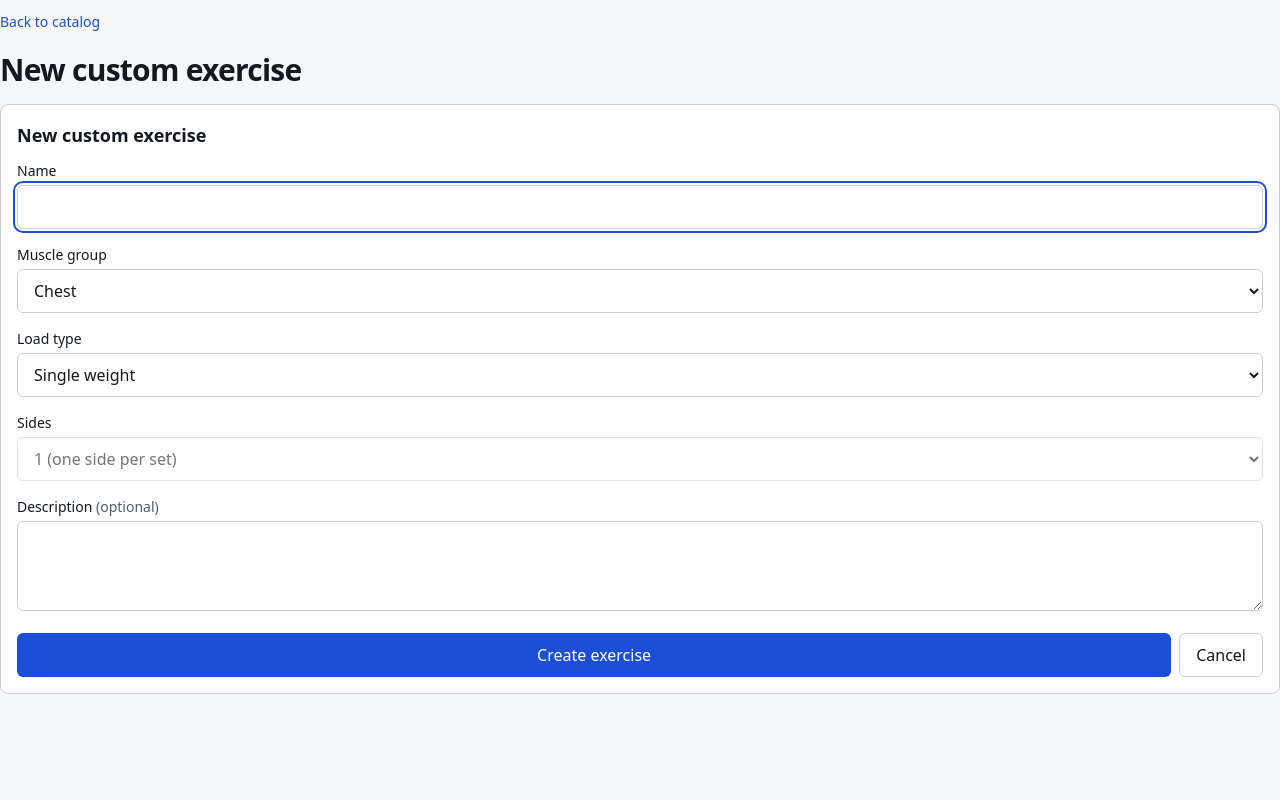
Scenario: ExerciseForm through the catalog screen › gives immediate required/range/cross-field feedback without a request
Click the button "Create exercise" at (594, 655), box [17,633,1171,677]
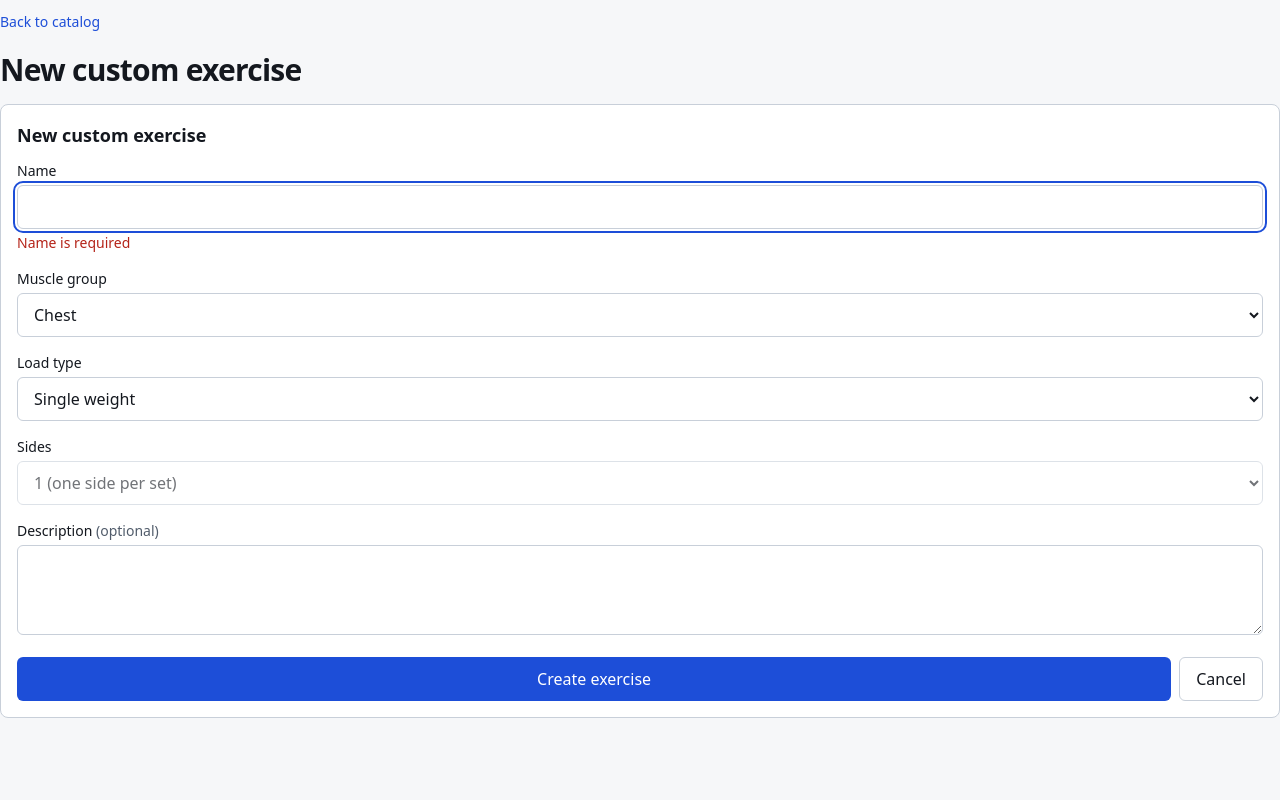
Expected: the text "Name is required" is shown, [17,233,130,252]
Type "Z Custom" into the field labelled "Name" at (640, 207), box [17,185,1263,229]
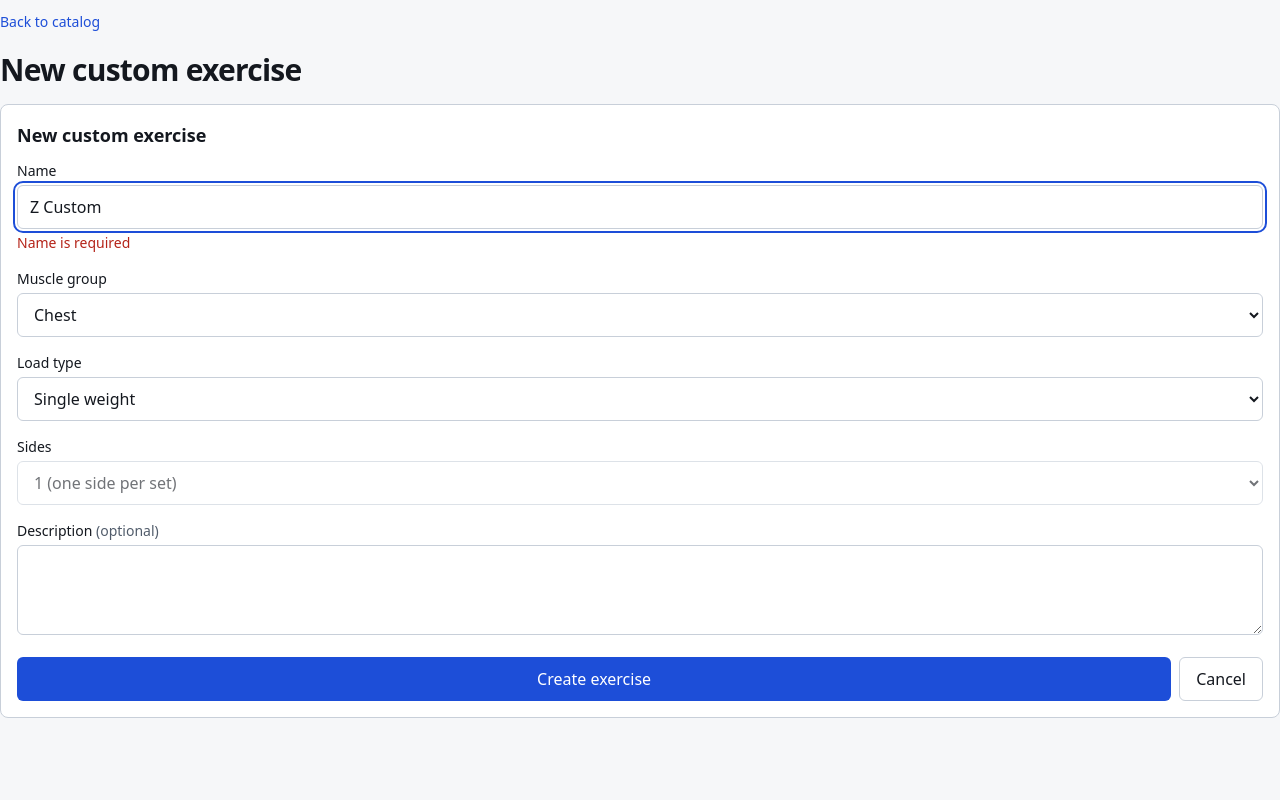
Select "Bodyweight" in the dropdown labelled "Load type" at (640, 399), box [17,377,1263,421]
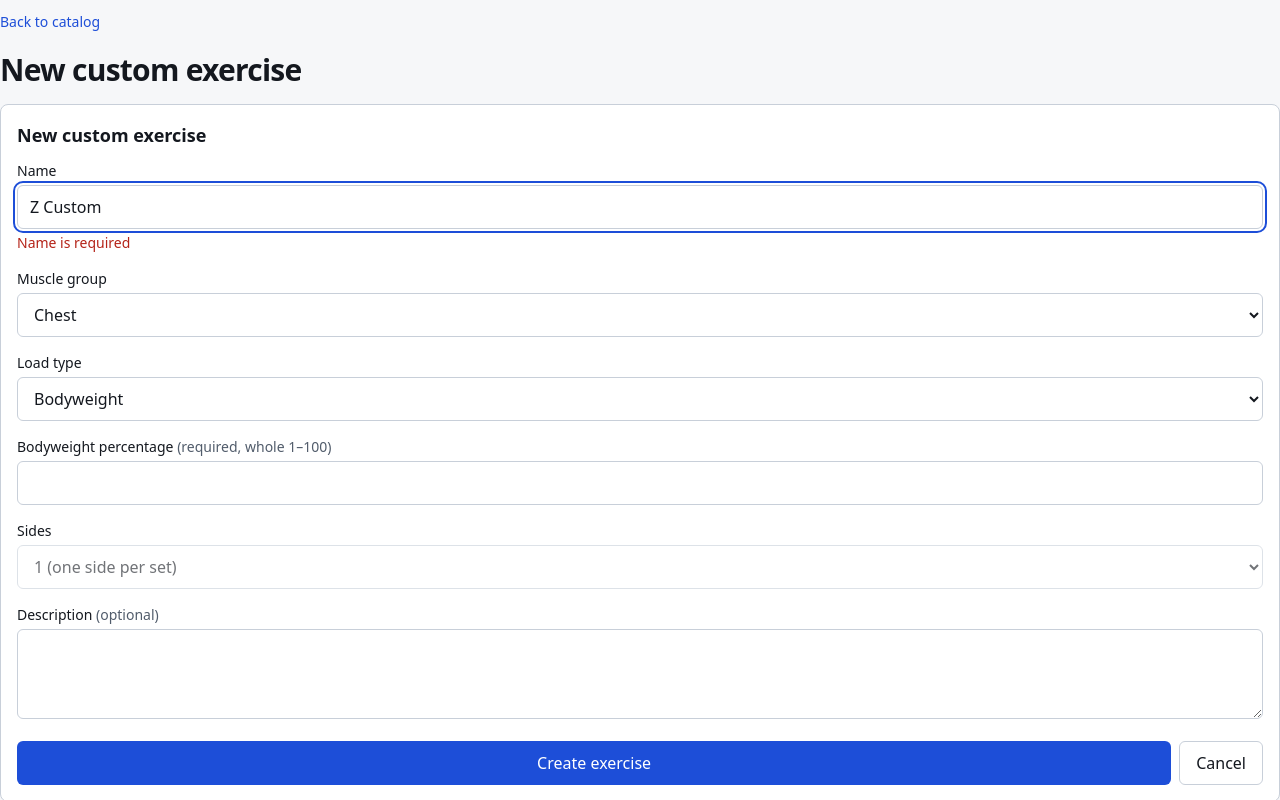
Click the button "Create exercise" at (594, 763), box [17,741,1171,785]
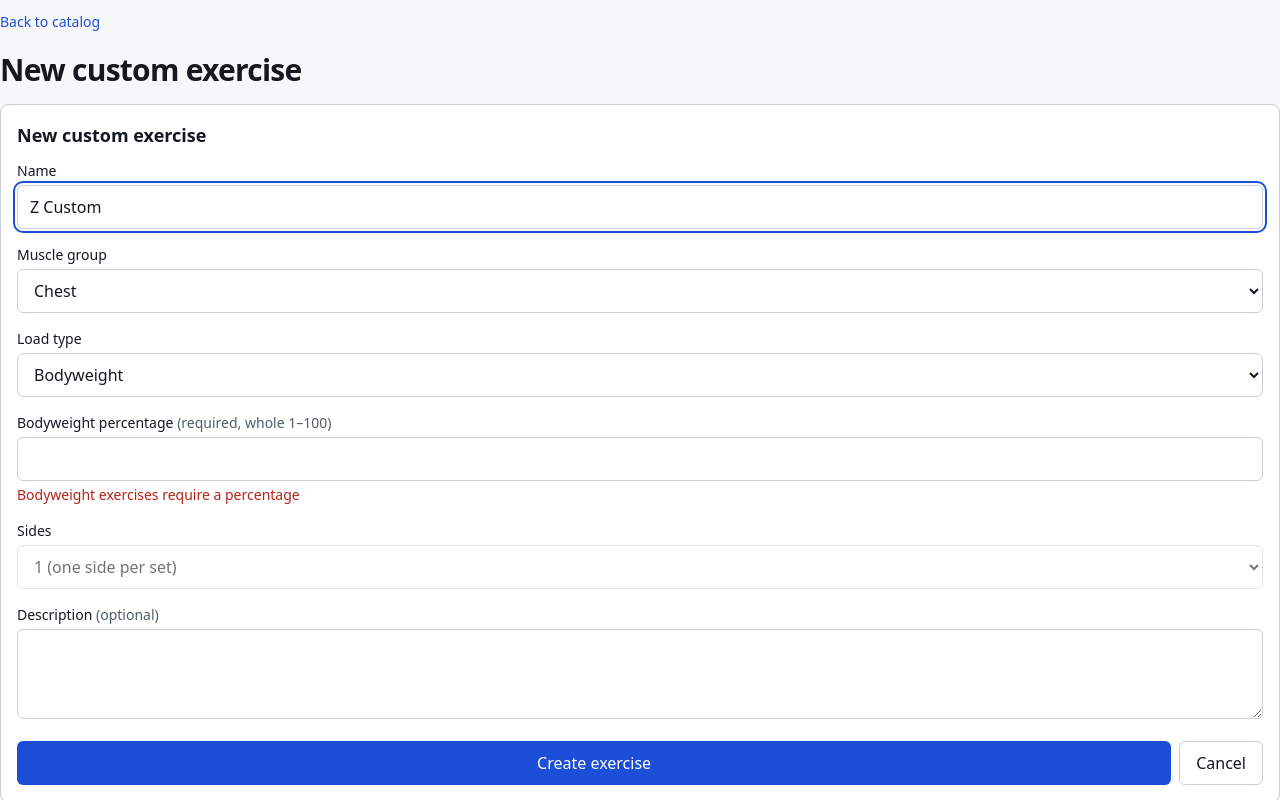
Expected: the text "Bodyweight exercises require a percentage" is shown, [17,485,300,504]
Type "12.5" into the field labelled "Bodyweight percentage (required, whole 1–100)" at (640, 459), box [17,437,1263,481]
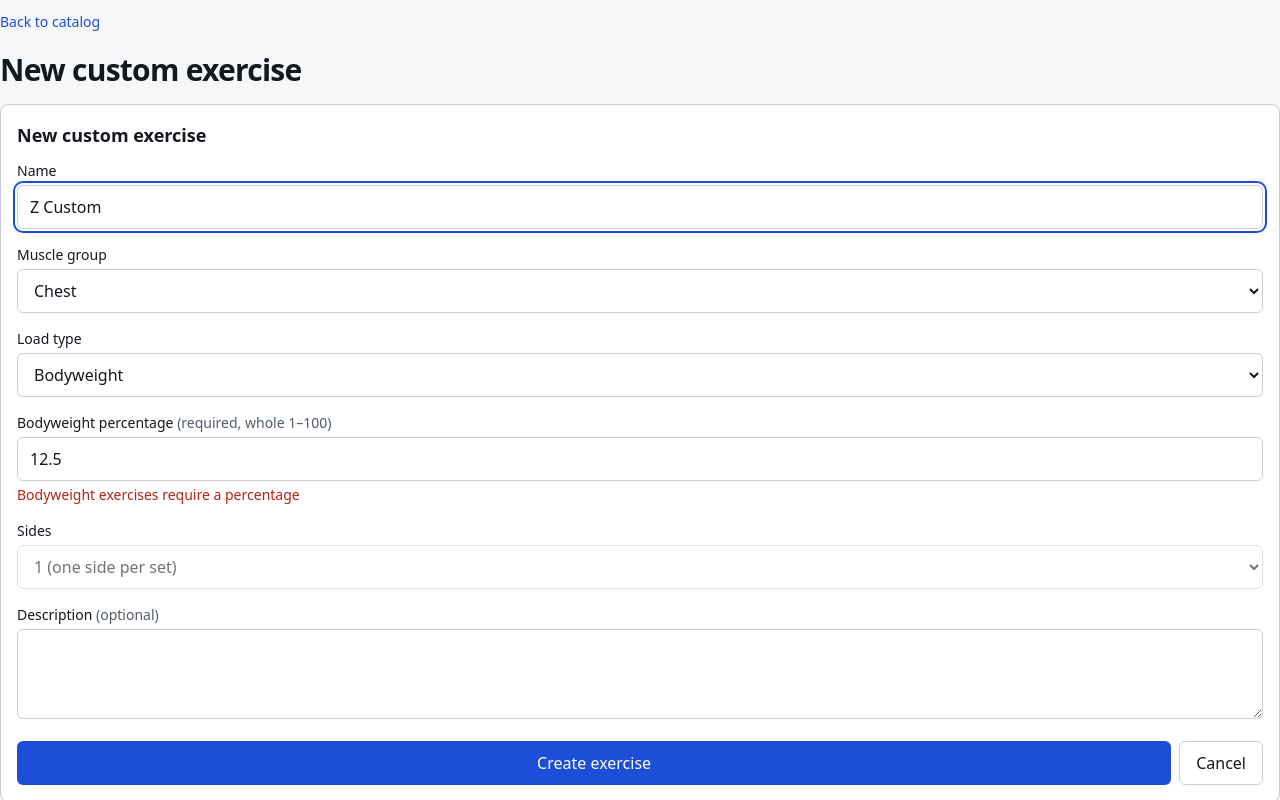
Click the button "Create exercise" at (594, 763), box [17,741,1171,785]
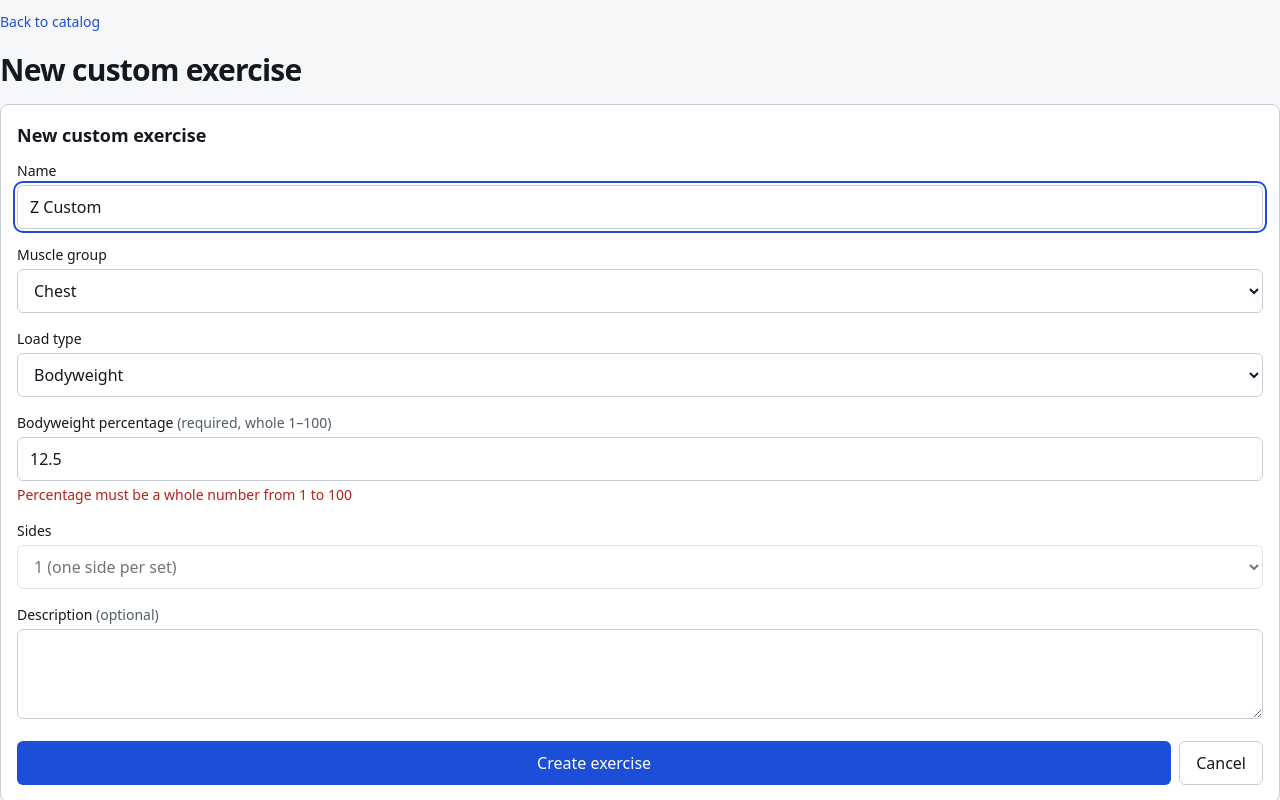
Expected: the text "Percentage must be a whole number from 1 to 100" is shown, [17,485,352,504]
